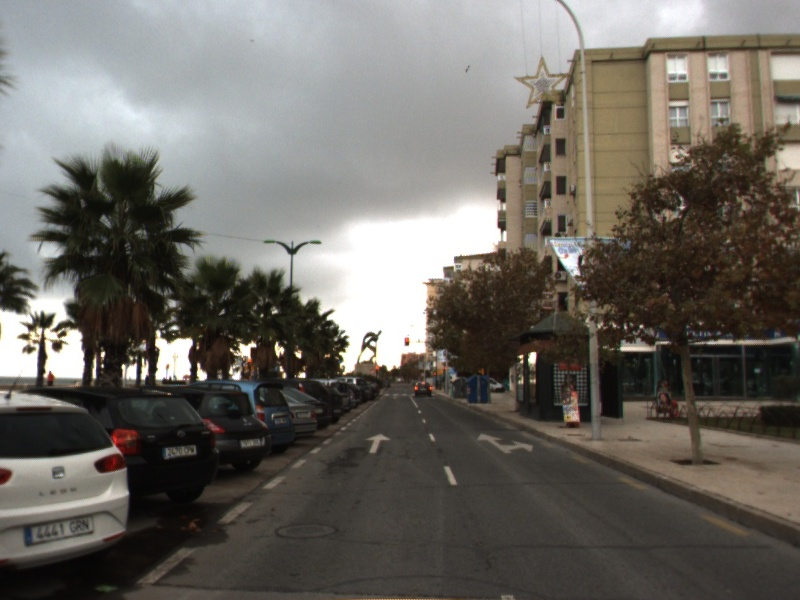STRAIGHT: (364, 431, 392, 455)
STRAIGHT_RIGHT: (476, 432, 535, 455)
